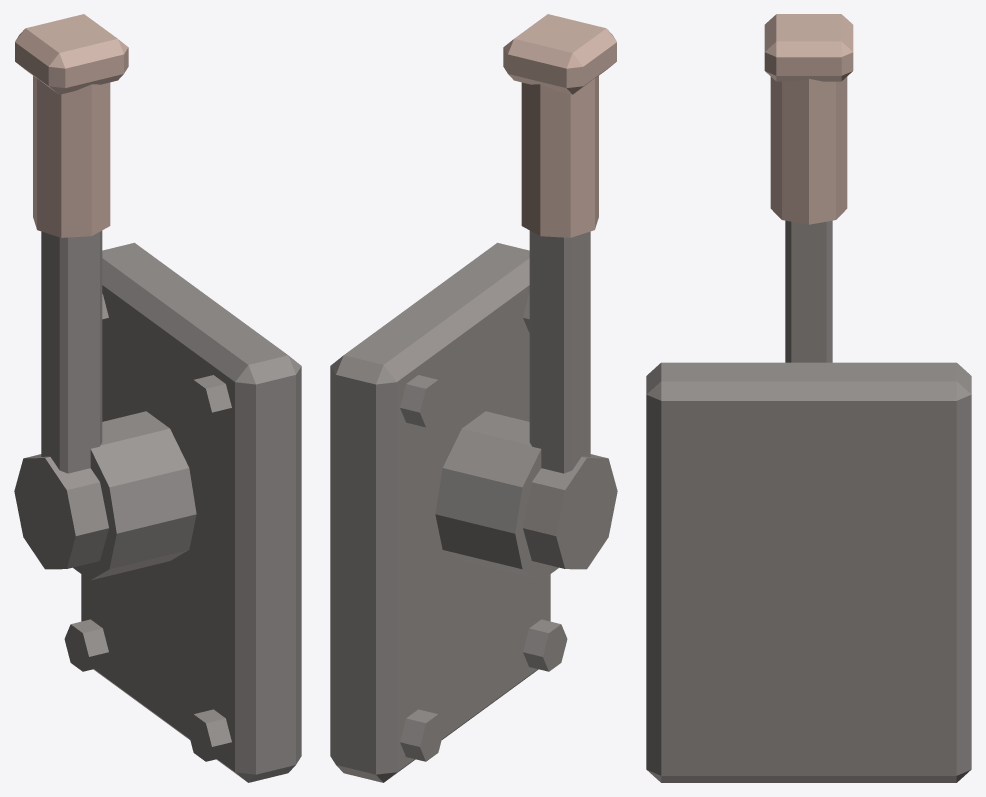
Rendered from DvergerGrinderLever.fbx.
3 renders of one model, left to right at view 1: azimuth 30°, elevation 25°; view 2: azimuth 150°, elevation 25°; view 3: azimuth 270°, elevation 25°, orthographic. The views are drawn at different scales.
Visible parts, largest first — view 1: LeverBase, LeverArm; view 2: LeverBase, LeverArm; view 3: LeverBase, LeverArm.
Part boxes in pixels (box(x1,y1,x2,y2)): LeverBase: box(64, 242, 301, 782); LeverArm: box(14, 14, 128, 569); LeverBase: box(330, 242, 567, 782); LeverArm: box(503, 14, 617, 569); LeverBase: box(646, 362, 971, 782); LeverArm: box(764, 14, 853, 362).
Size of the model in its own units: 14.5 by 51.5 by 22.
